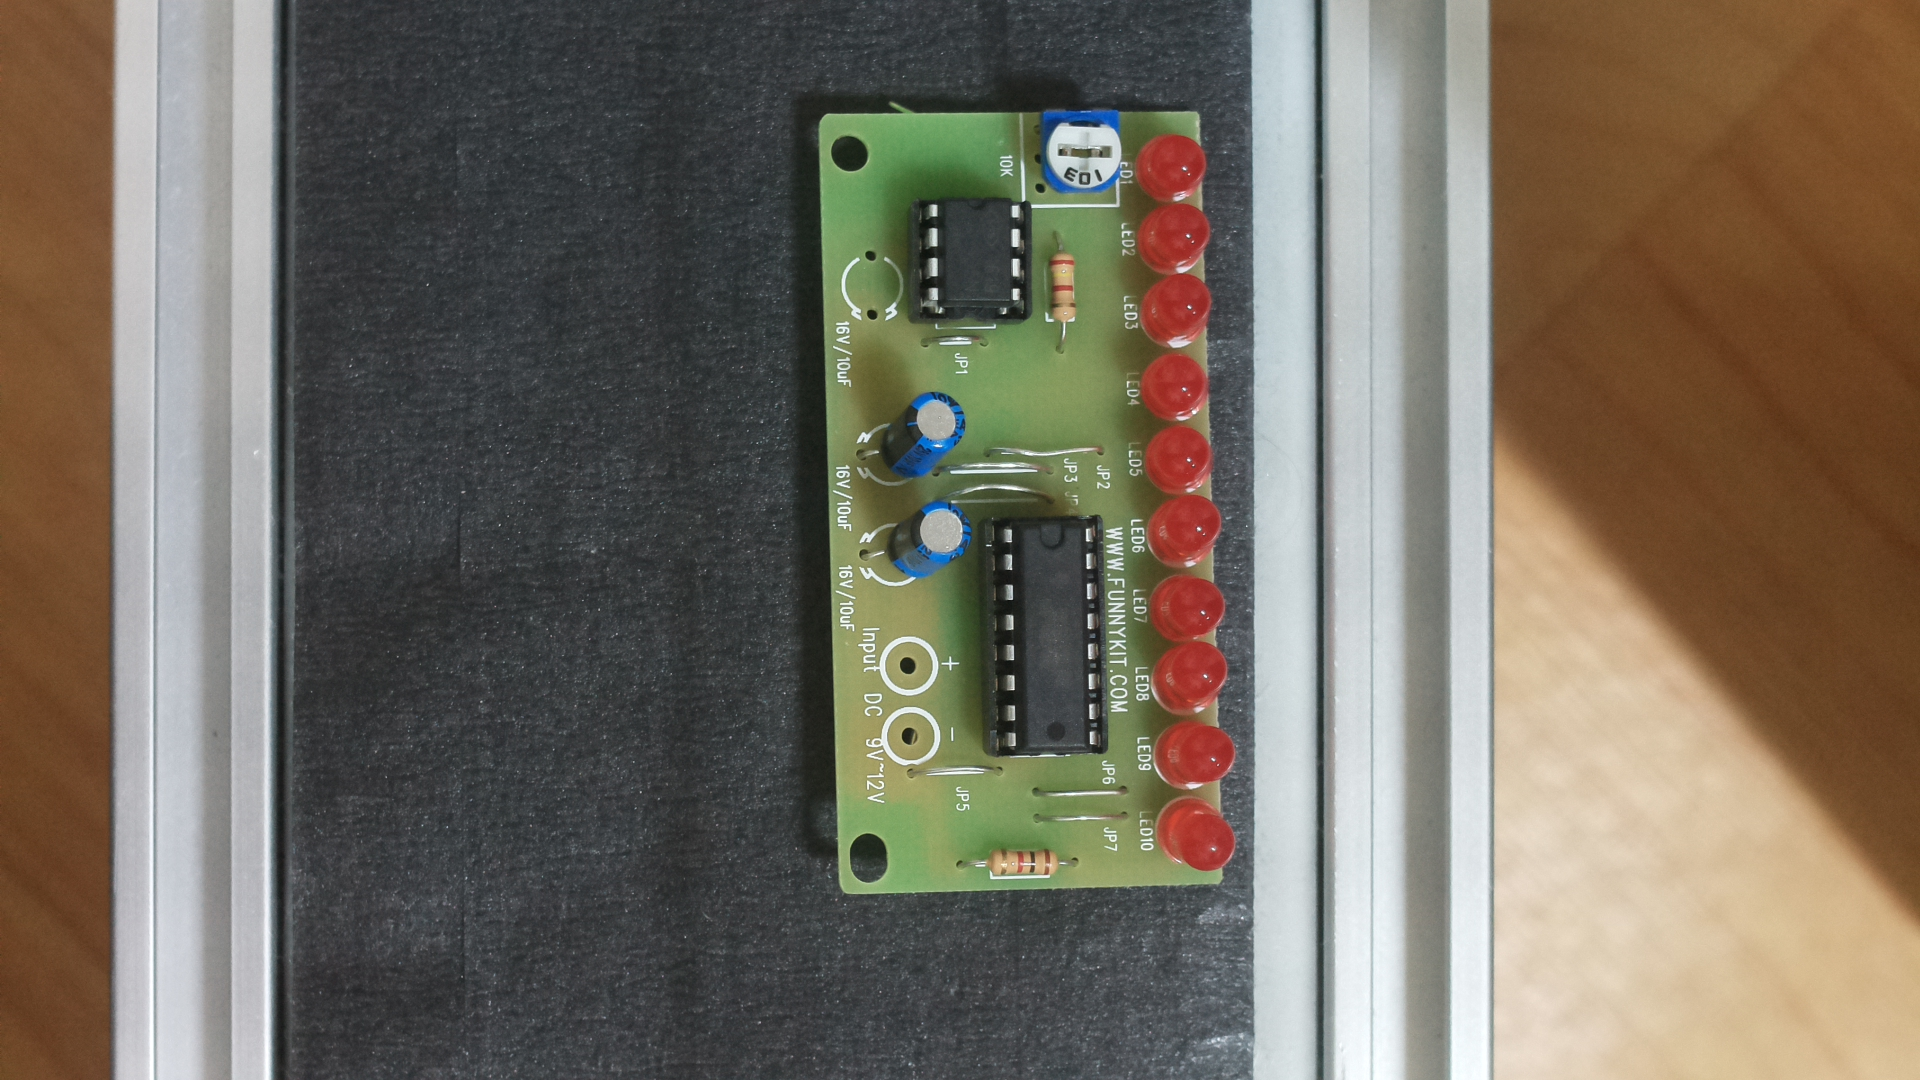B_Missing_part: (799, 87, 1245, 915)
